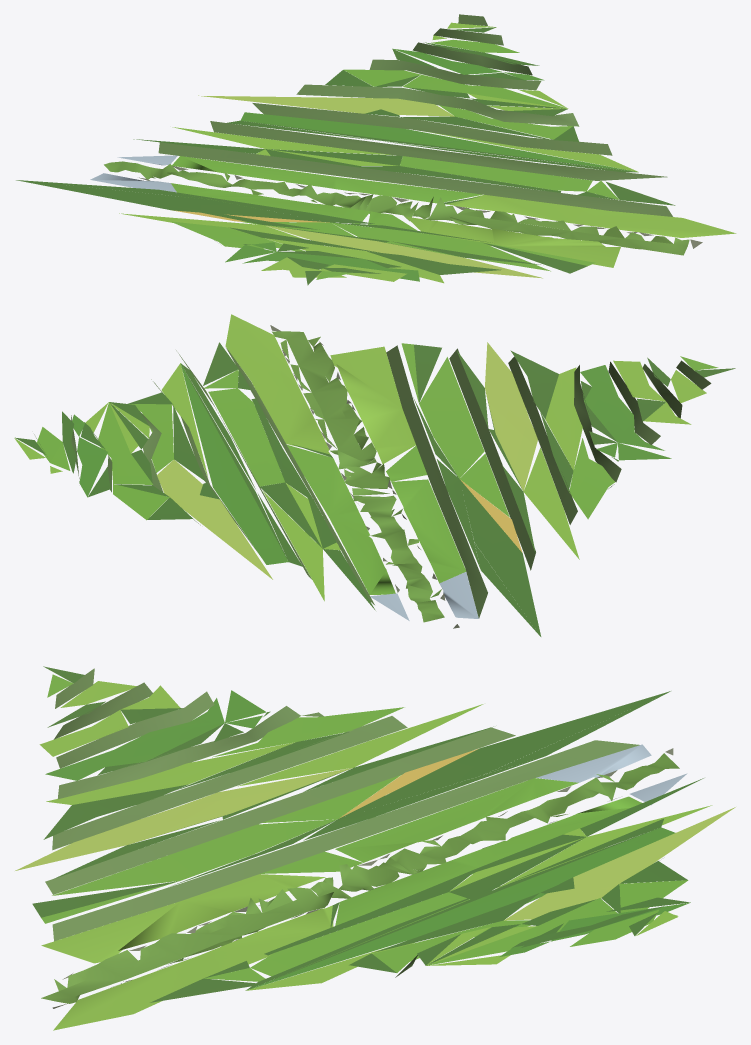
The model's file is payo_land_xm3_y6_lod2.glb.
3 renders of one model, top to bottom at view 1: azimuth 30°, elevation 25°; view 2: azimuth 150°, elevation 25°; view 3: azimuth 270°, elevation 25°, orthographic. The views are drawn at different scales.
Visible parts, largest first — view 1: payo_land_xm3_y6; view 2: payo_land_xm3_y6; view 3: payo_land_xm3_y6.
Boxes of the visible parts, x1,y1,x2,y2 form: payo_land_xm3_y6: [16, 14, 736, 285]; payo_land_xm3_y6: [14, 314, 735, 636]; payo_land_xm3_y6: [15, 666, 735, 1030].
Bounding box in the file's own units: 322 × 46.48 × 299.
